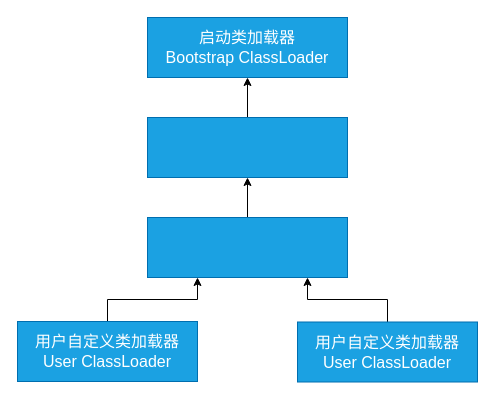
Image size: 495x400. Some labels were removed from this diagram. Here are the shapes that lost their labels. From the top down, the centre of each, then its label:
At (247,147): "扩展类加载器 Extension ClassLoader".
At (247,247): "应用程序类加载器 Application ClassLoader".
